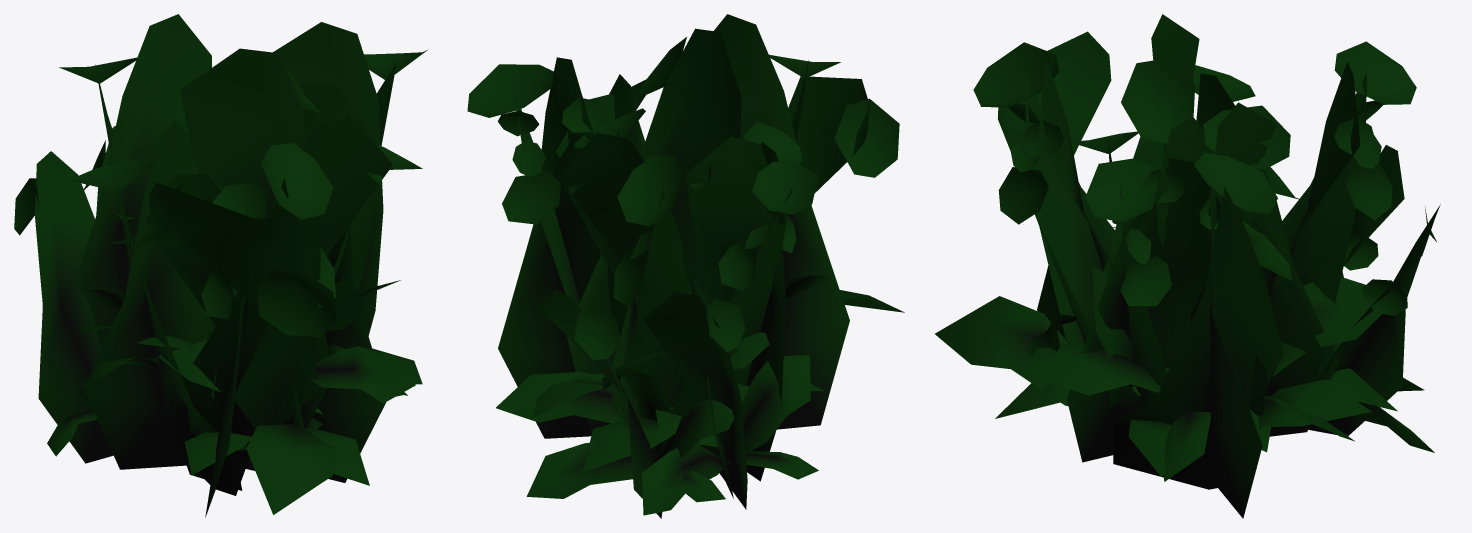
The model's file is FlowersDlionGCATA_I.fbx.
3 views of the same model, side by side, from view 1: azimuth 30°, elevation 25°; view 2: azimuth 150°, elevation 25°; view 3: azimuth 270°, elevation 25° (orthographic). The views are drawn at different scales.
Visible parts, largest first — view 1: FDGCATAI_LOD0; view 2: FDGCATAI_LOD0; view 3: FDGCATAI_LOD0.
Boxes of the visible parts, x1,y1,x2,y2 form: FDGCATAI_LOD0: (14, 14, 427, 517); FDGCATAI_LOD0: (467, 14, 904, 518); FDGCATAI_LOD0: (935, 14, 1440, 518).
Size of what is drawn, in the model's own units: 0.5151 by 0.5823 by 0.6306.
